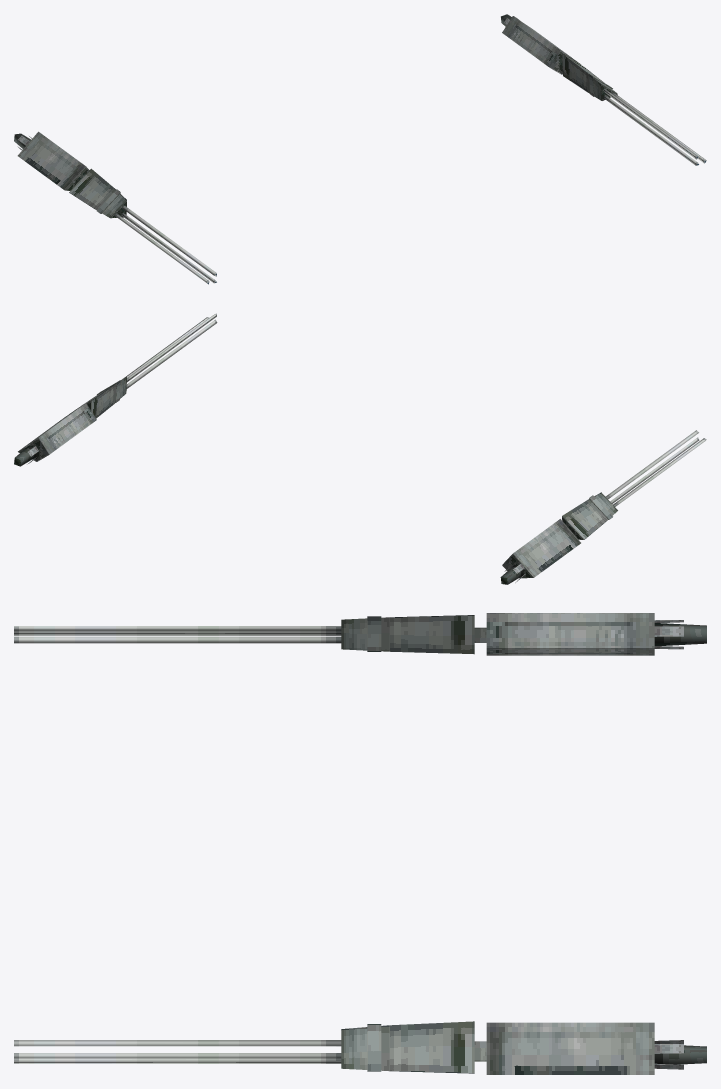
File: hutt_fighter_medium_weapon1_s04_l2.fbx
3 views of the same model, one above another, from view 1: azimuth 30°, elevation 25°; view 2: azimuth 150°, elevation 25°; view 3: azimuth 270°, elevation 25° (orthographic). The views are drawn at different scales.
Parts seen in each view (by area): view 1: mesh_node; view 2: mesh_node; view 3: mesh_node.
Part boxes in pixels (bbox=[...]): mesh_node: bbox=[14, 14, 706, 284]; mesh_node: bbox=[14, 313, 706, 584]; mesh_node: bbox=[14, 613, 706, 1074].
Size of the model in its own units: 13.78 by 0.6315 by 9.05.
Materials: 1 (1 with a texture image).
